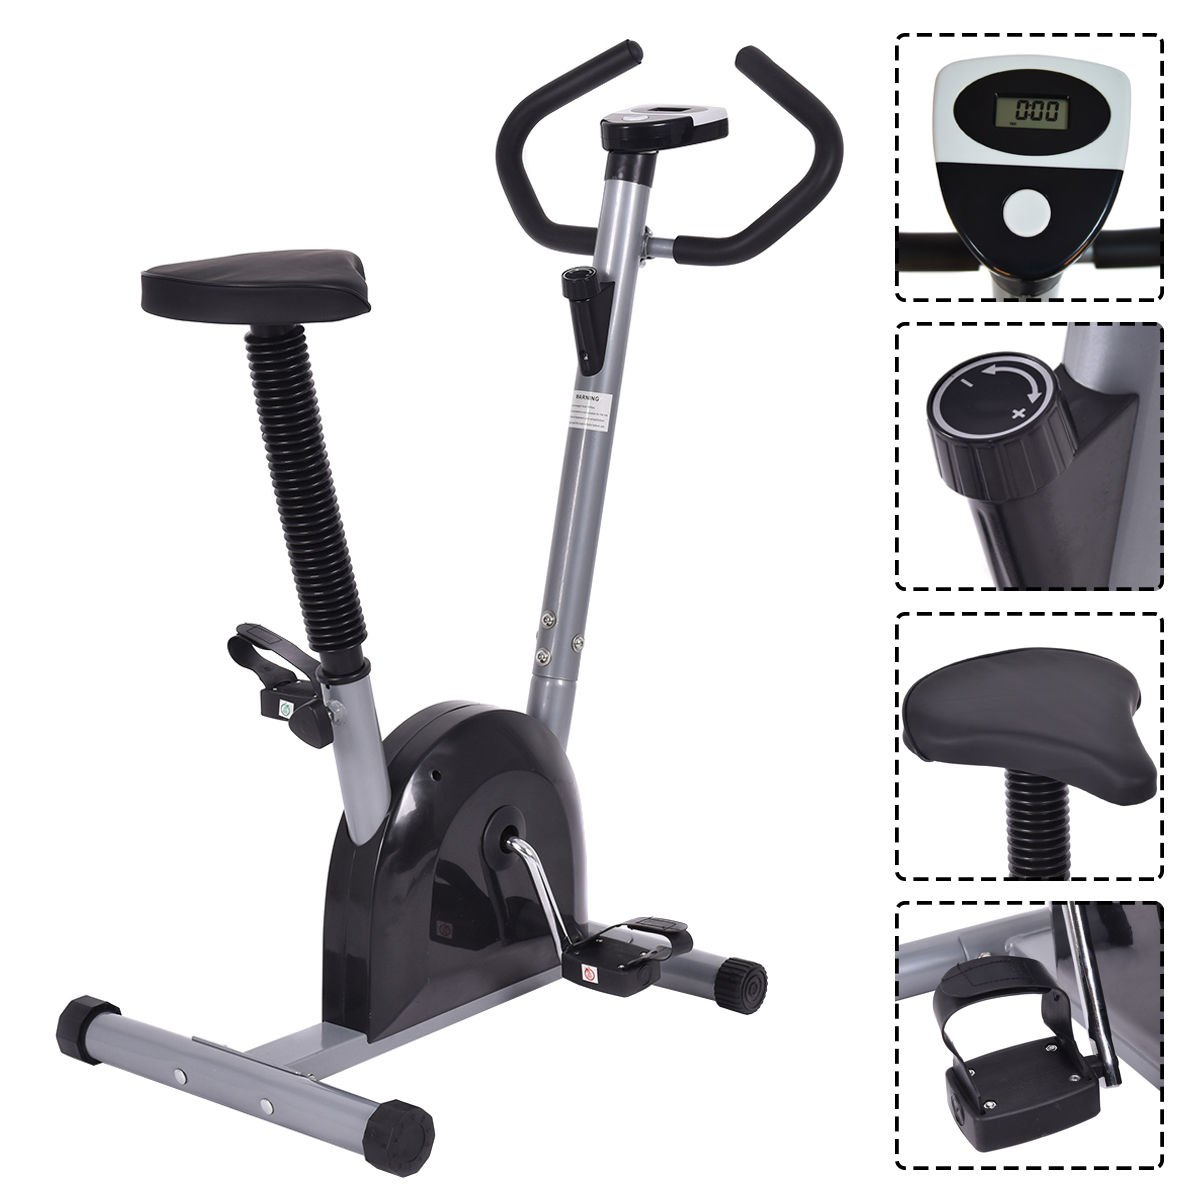gym_bike: (40, 25, 853, 1151)
